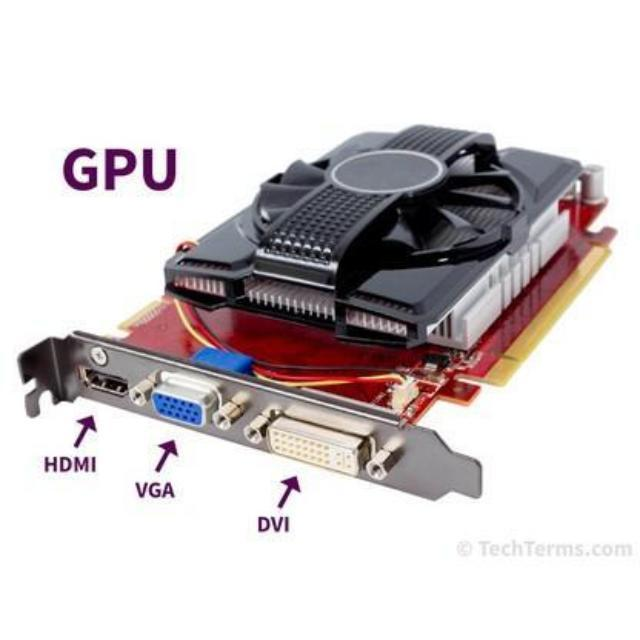GPU: (35, 101, 613, 496)
